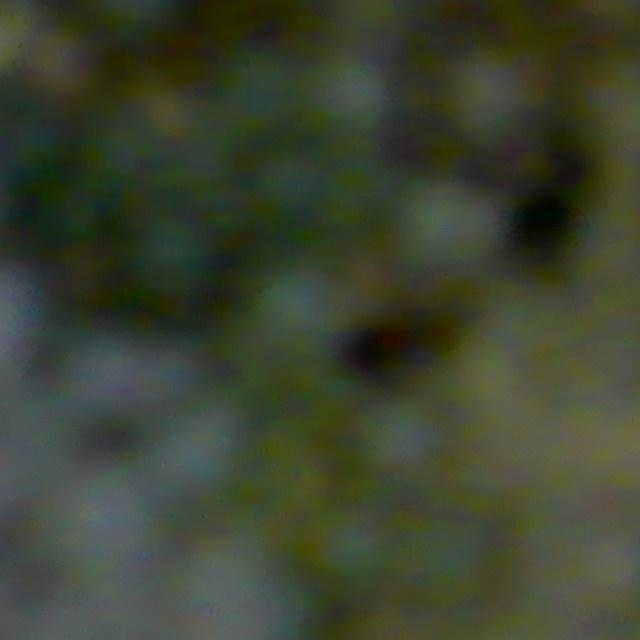SeaGrape: (64, 477, 182, 582), (442, 45, 547, 149), (149, 408, 249, 517), (398, 177, 503, 274), (195, 540, 290, 640), (250, 266, 343, 358), (68, 318, 145, 422), (307, 52, 398, 139), (356, 394, 448, 480), (308, 505, 396, 590), (221, 43, 305, 129), (22, 24, 98, 103), (253, 149, 329, 222)
